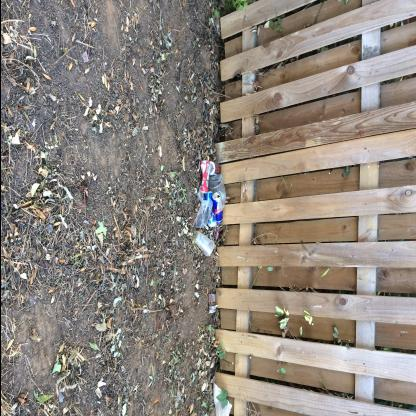kagit: (209, 381, 232, 415), (207, 293, 215, 314)
metal: (202, 191, 216, 227), (198, 160, 209, 194), (211, 193, 222, 224), (208, 162, 220, 176)
plastik: (190, 198, 212, 228), (192, 230, 214, 256), (208, 175, 225, 207)
